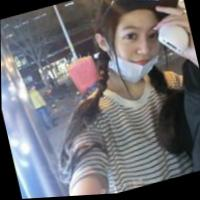WRONG: (108, 15, 169, 86)
